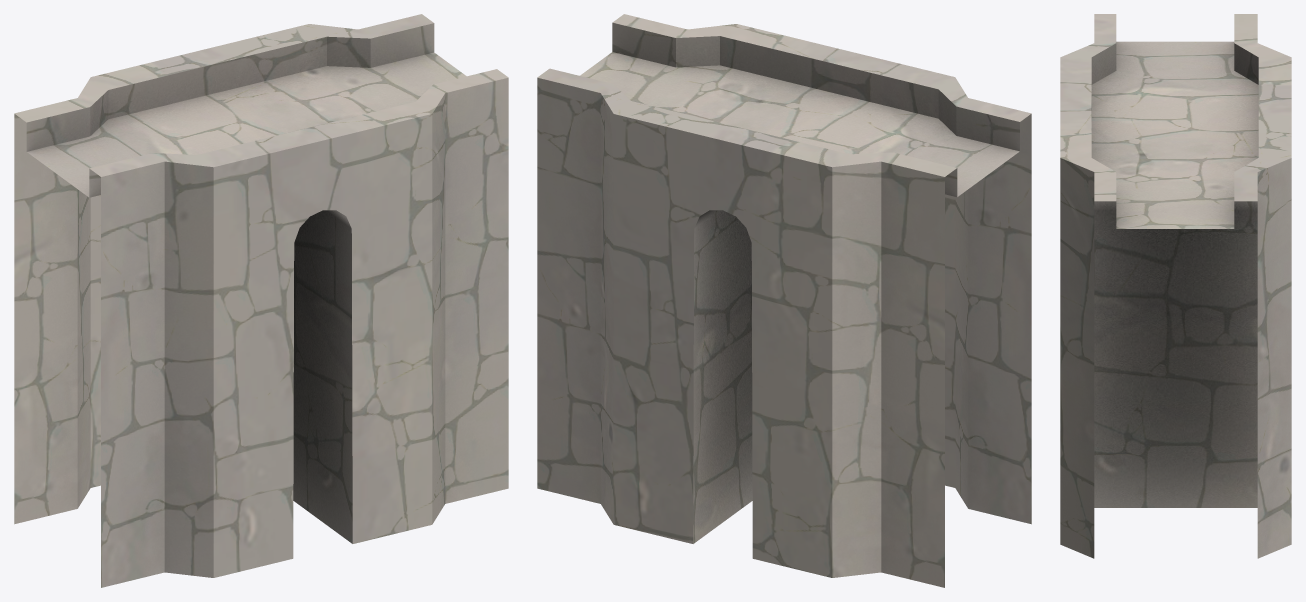
Rendered from Castillo_acceso_muro.fbx.
3 views of the same model, side by side, from view 1: azimuth 30°, elevation 25°; view 2: azimuth 150°, elevation 25°; view 3: azimuth 270°, elevation 25° (orthographic). The views are drawn at different scales.
Parts seen in each view (by area): view 1: Obj_Acceso_muro; view 2: Obj_Acceso_muro; view 3: Obj_Acceso_muro.
Part boxes in pixels (bbox=[...]): Obj_Acceso_muro: bbox=[14, 14, 508, 587]; Obj_Acceso_muro: bbox=[537, 14, 1031, 587]; Obj_Acceso_muro: bbox=[1060, 14, 1291, 558].
Size of the model in its own units: 1649 by 1588 by 862.
